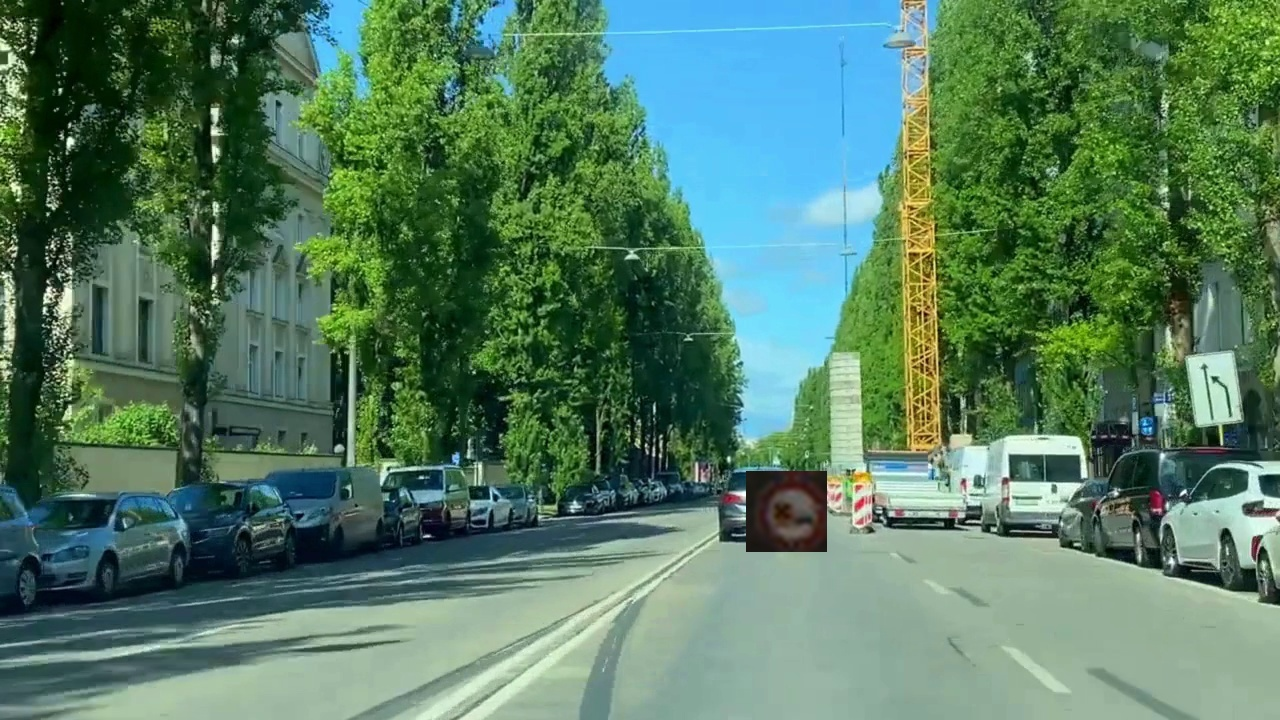No pass >3.5t: (746, 471, 827, 552)
